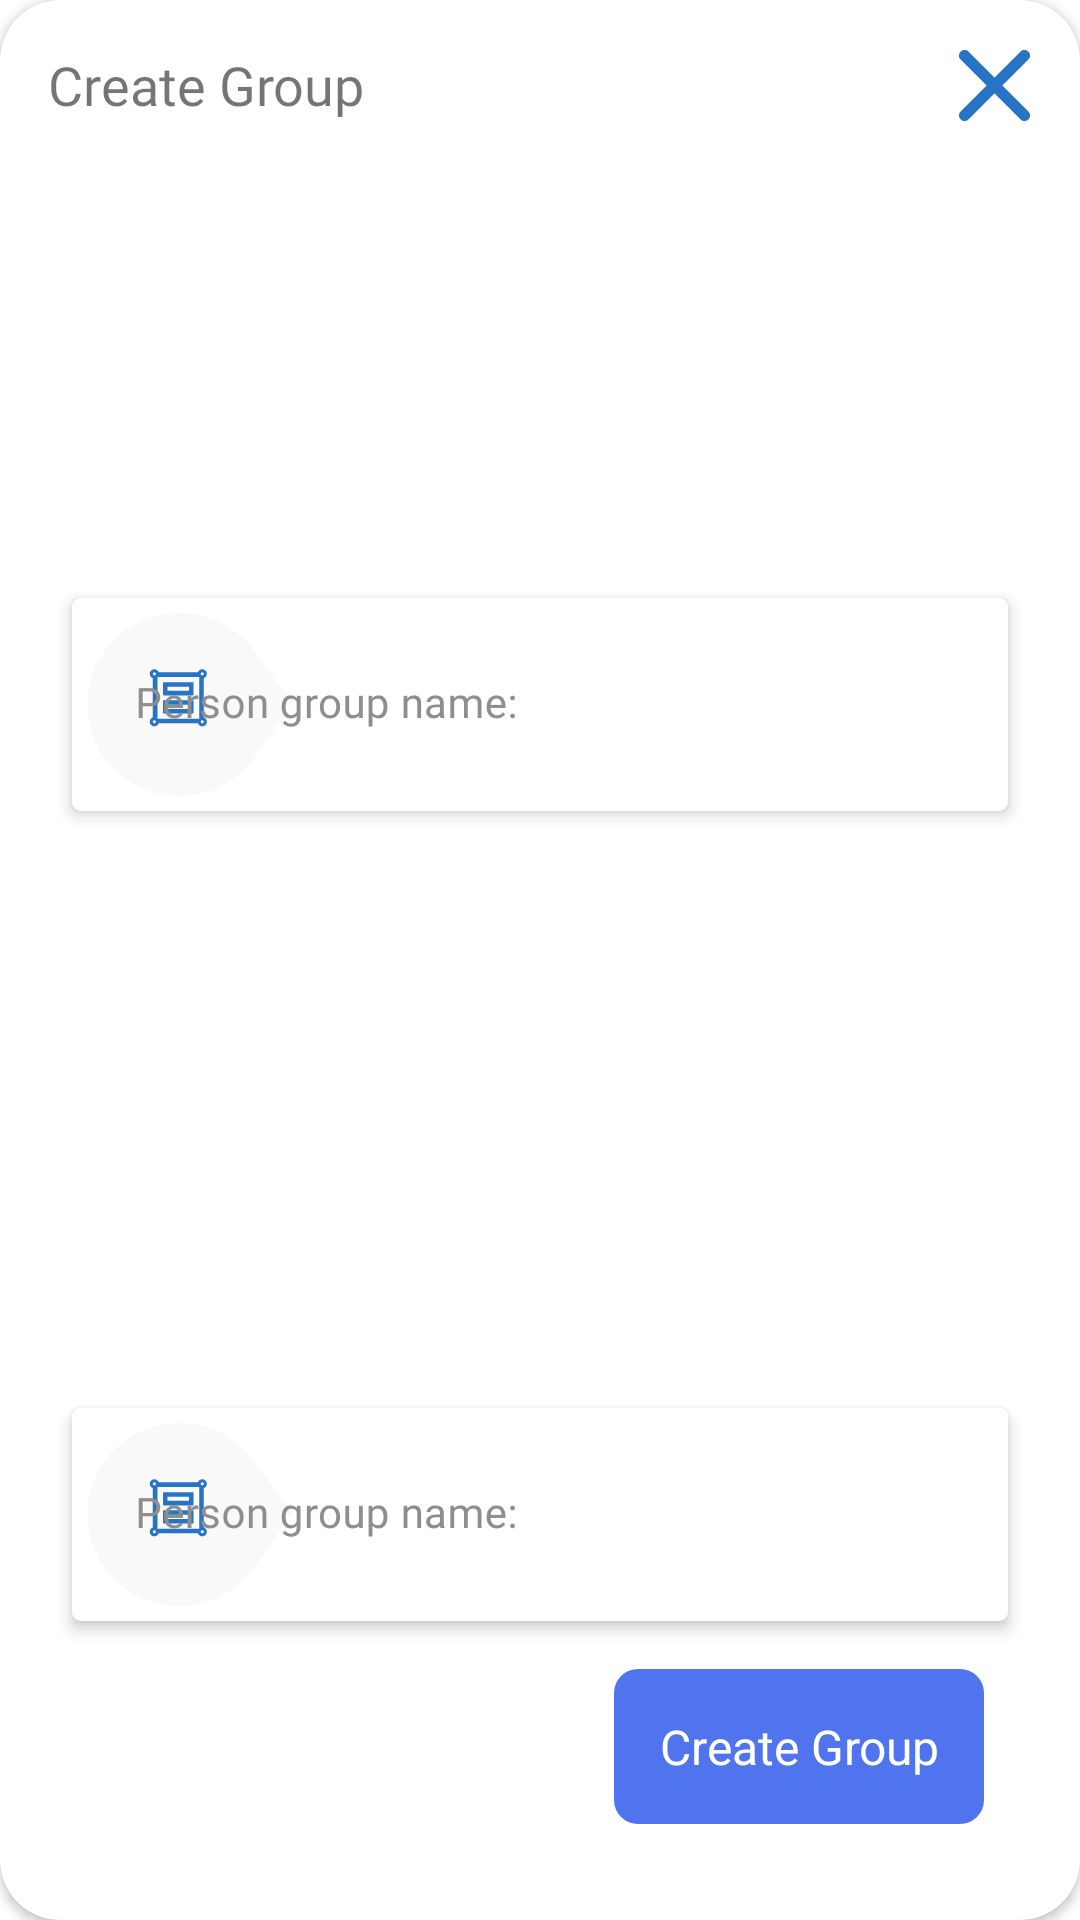

Screen size 1080x1920. Icon name, then its center in pixels as (x,y):
close: (994,85)
